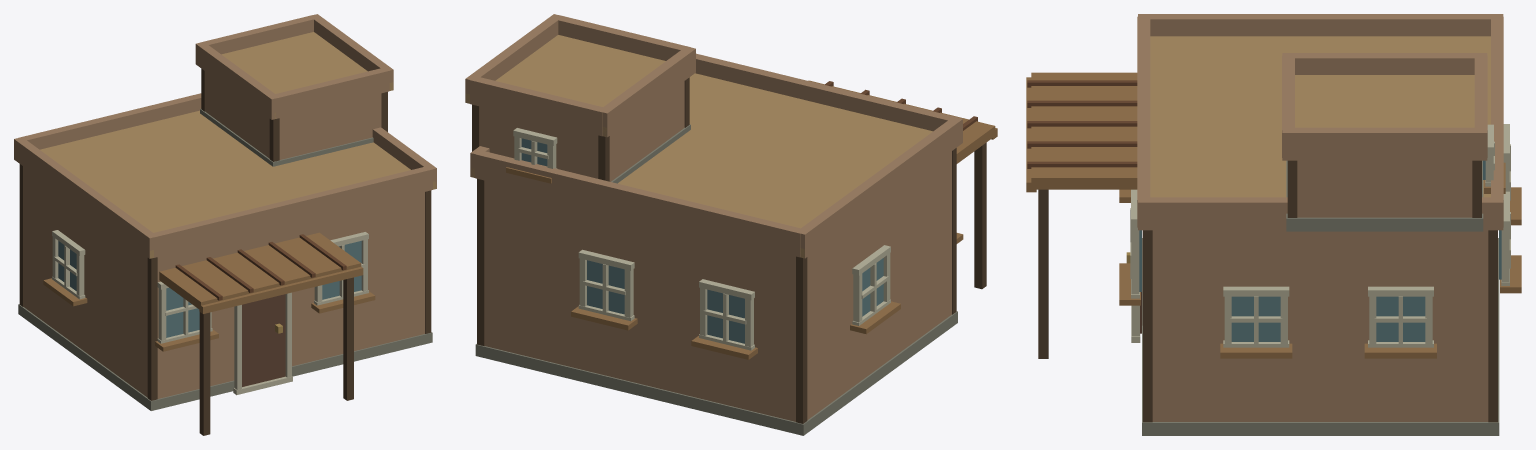
File: Building_Settlement_AdobeTerraceHouse_001.glb
3 views of the same model, side by side, from view 1: azimuth 30°, elevation 25°; view 2: azimuth 150°, elevation 25°; view 3: azimuth 270°, elevation 25° (orthographic). The views are drawn at different scales.
Visible parts, largest first — view 1: Building_Settlement_AdobeTerraceHouse_001; view 2: Building_Settlement_AdobeTerraceHouse_001; view 3: Building_Settlement_AdobeTerraceHouse_001.
Part boxes in pixels (box(x1,y1,x2,y2)): Building_Settlement_AdobeTerraceHouse_001: box(14, 14, 436, 435); Building_Settlement_AdobeTerraceHouse_001: box(465, 14, 997, 435); Building_Settlement_AdobeTerraceHouse_001: box(1026, 14, 1521, 435).
Bounding box in the file's own units: 6.01 × 4.3 × 6.17.
